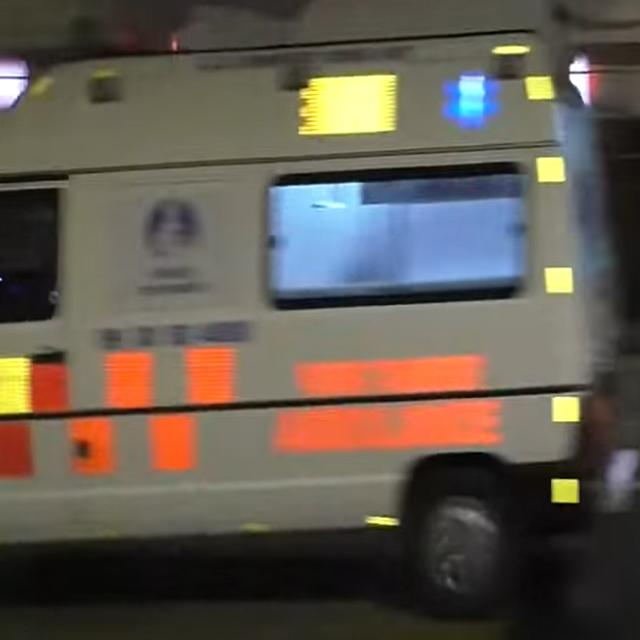ambulance: (1, 0, 638, 620)
